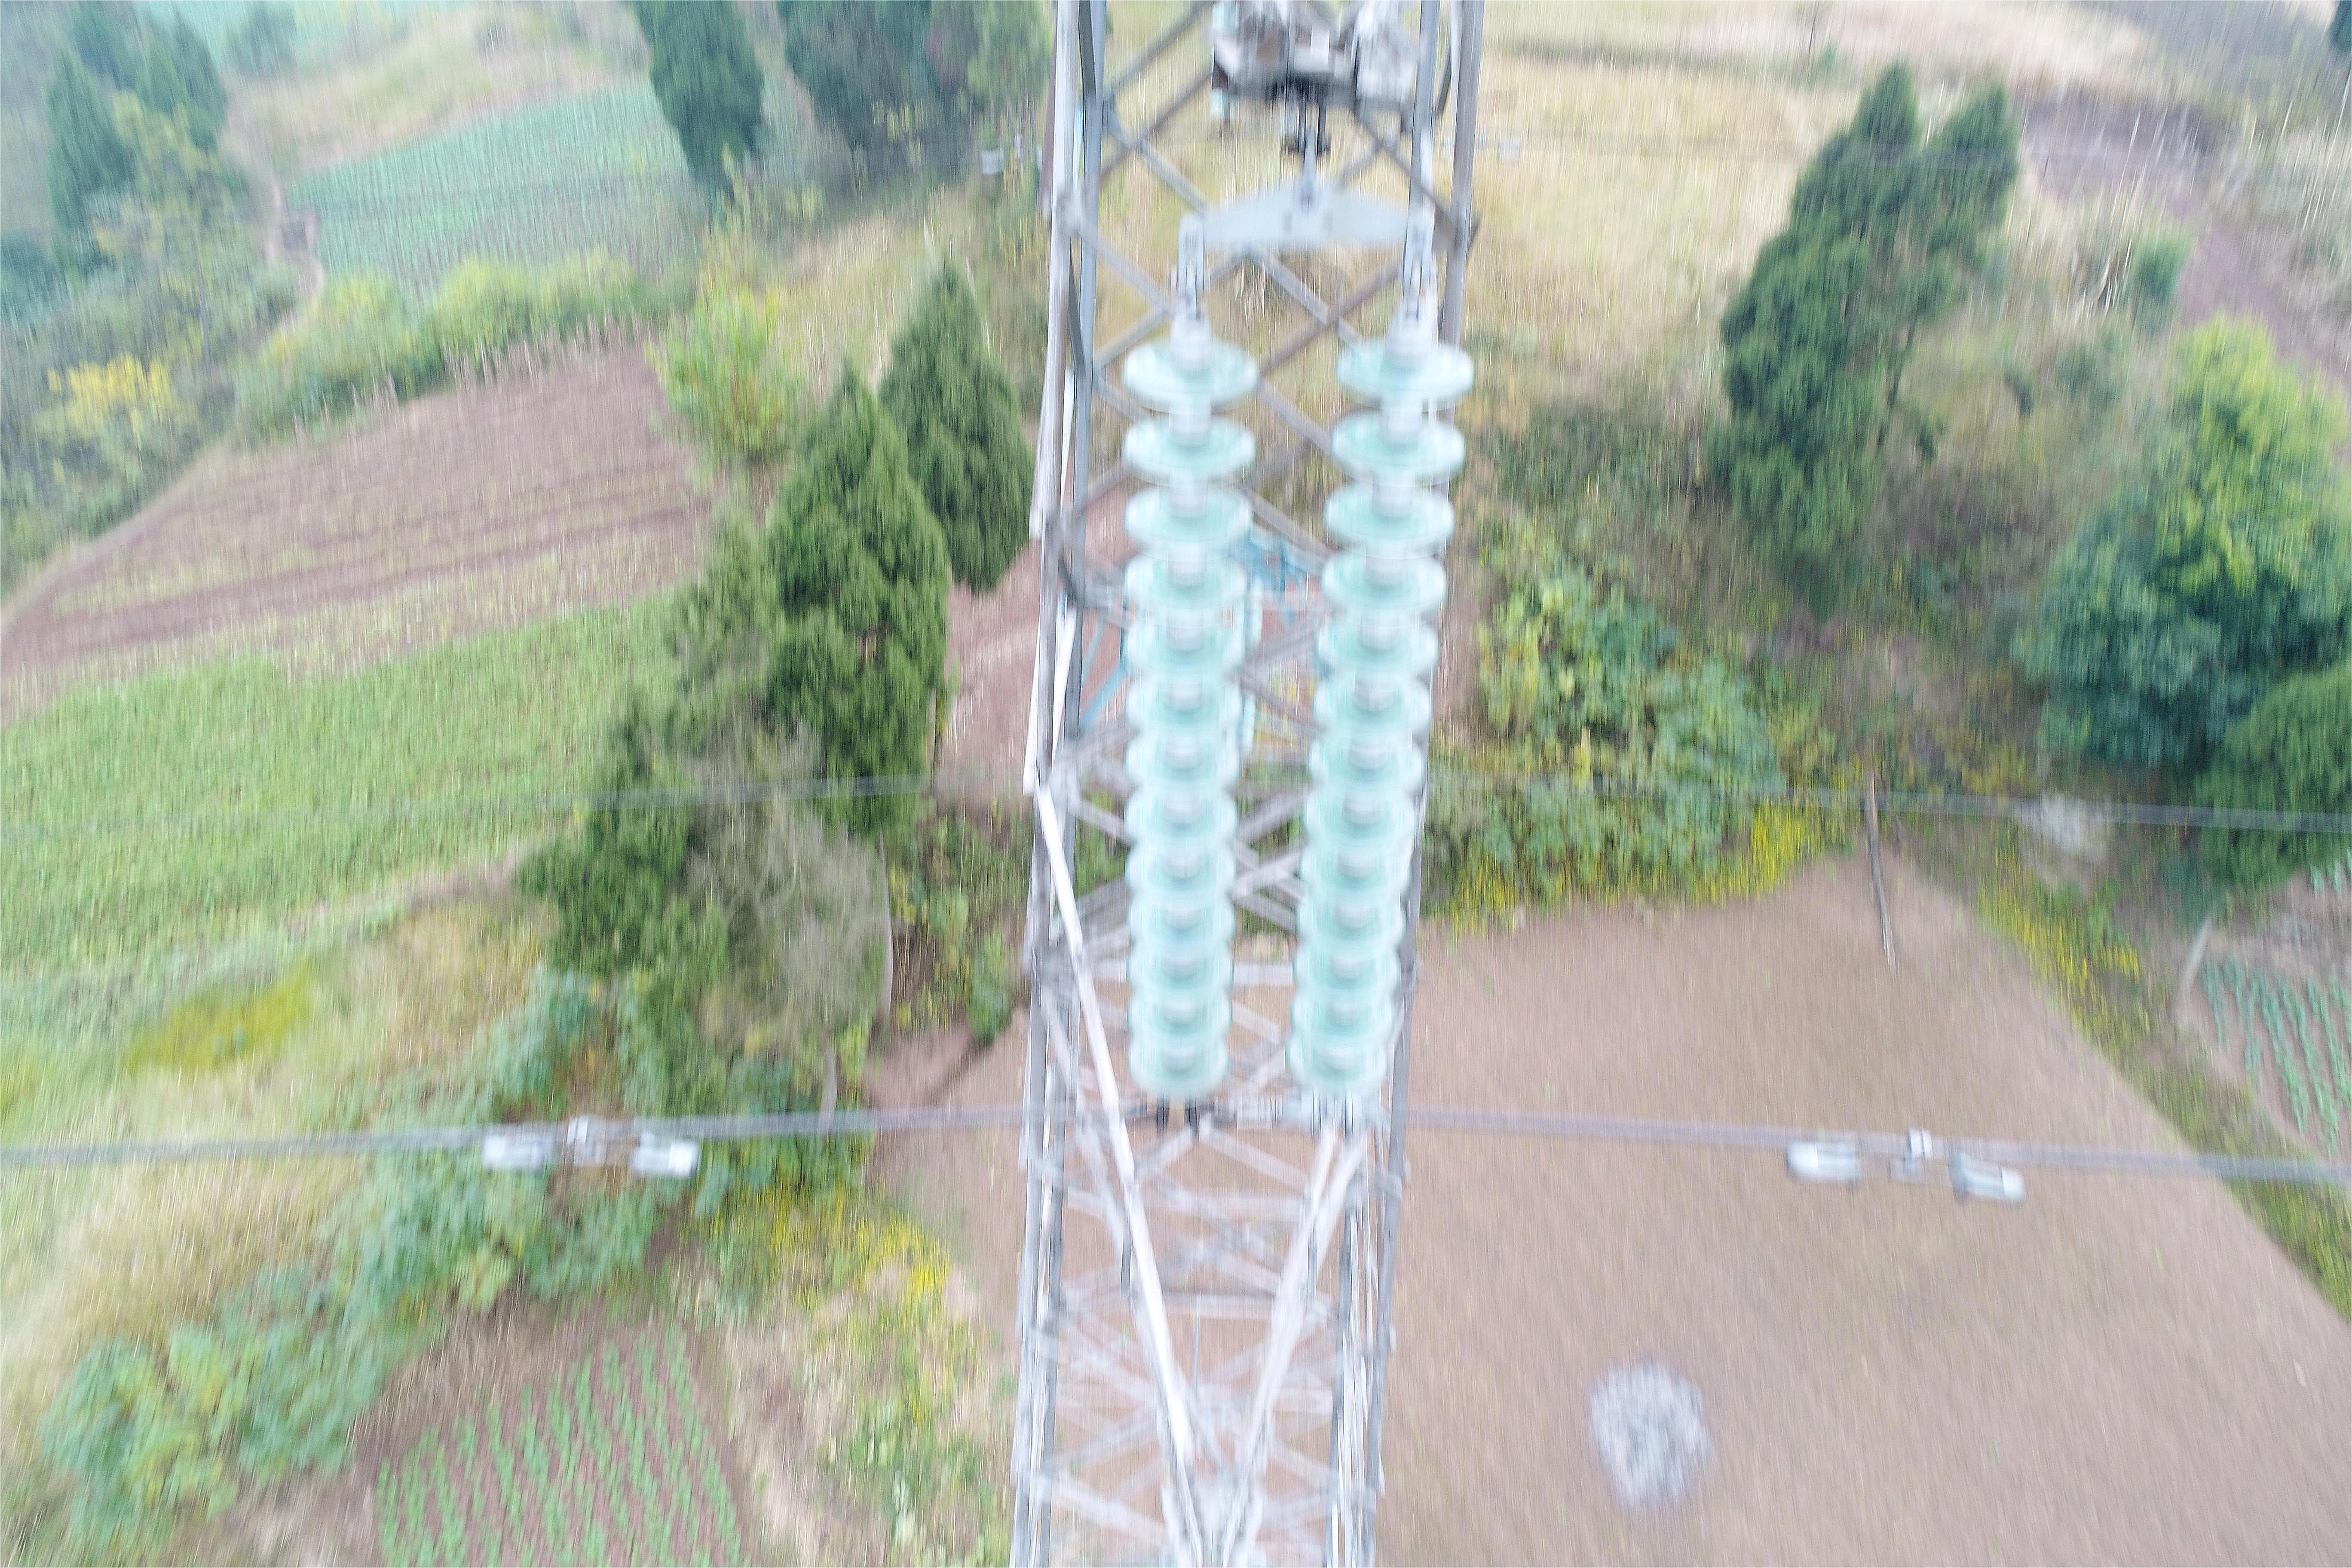insultor3: (1108, 289, 1449, 1132)
